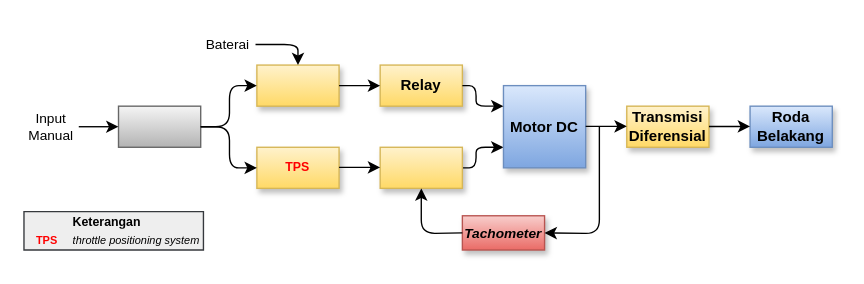
Image size: 864x284. Some labels were removed from this diagram. The centre of each missing label's shape, as x and y in pixels:
"Control Board" belongs at [422,169].
"Pedal Gas" belongs at [159,126].
"Switch Akselerator" belongs at [298,87].
